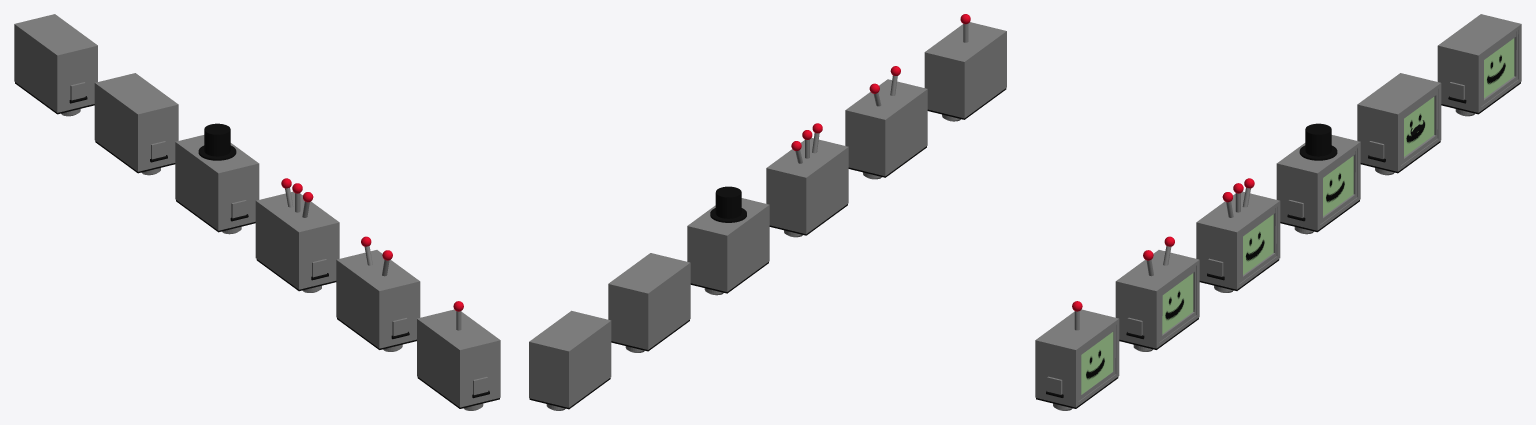
Rendered from Characters.fbx.
3 renders of one model, left to right at view 1: azimuth 30°, elevation 25°; view 2: azimuth 150°, elevation 25°; view 3: azimuth 330°, elevation 25°, orthographic.
Visible parts, largest first — view 1: Robot4, Robot3, Robot2, Robot1, Robot5, Robot6; view 2: Robot4, Robot3, Robot2, Robot1, Robot6, Robot5; view 3: Robot4, Robot3, Robot2, Robot1, Robot5, Robot6, Face1, Face2, Face3, Face4, Face6, Face5.
Part boxes in pixels (box(x1,y1,x2,y2)): Robot4: box(175, 123, 259, 234); Robot3: box(255, 178, 339, 292); Robot2: box(336, 236, 420, 351); Robot1: box(417, 301, 500, 410); Robot5: box(94, 73, 178, 175); Robot6: box(14, 14, 97, 116); Robot4: box(687, 186, 769, 295); Robot3: box(766, 123, 848, 237); Robot2: box(845, 66, 927, 179); Robot1: box(924, 14, 1006, 121); Robot6: box(529, 310, 611, 410); Robot5: box(608, 253, 690, 352); Robot4: box(1276, 123, 1360, 234); Robot3: box(1196, 178, 1280, 292); Robot2: box(1115, 236, 1199, 351); Robot1: box(1035, 301, 1119, 410); Robot5: box(1357, 73, 1441, 175); Robot6: box(1437, 14, 1521, 116); Face1: box(1081, 332, 1113, 394); Face2: box(1162, 273, 1193, 334); Face3: box(1243, 214, 1273, 274); Face4: box(1323, 156, 1353, 216); Face6: box(1484, 38, 1514, 98); Face5: box(1404, 97, 1434, 156).
Bounding box in the file's own units: 200 × 452 × 3804.
Materials: 4 (1 with a texture image).
